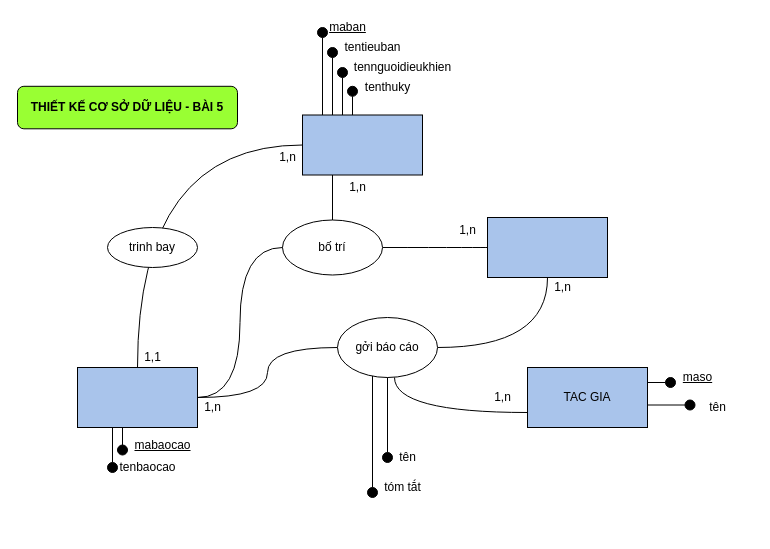
The diagram is 770 pixels wide and 549 high, and some of its shapes have lost their labels. The box of each missing label's shape, as (x1, y1, x2, y2) in pixels:
BAO CAO: (76, 366, 198, 428)
BTC: (486, 216, 608, 278)
TIEU BAN: (302, 114, 422, 175)
